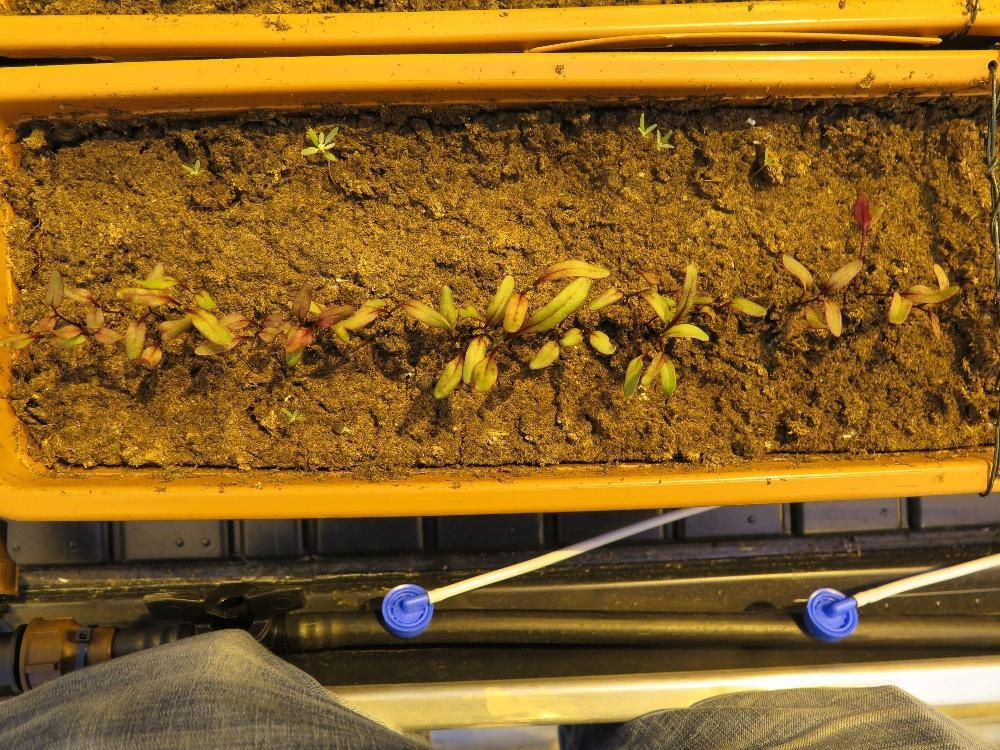weed: (297, 122, 338, 160), (179, 157, 204, 179), (655, 126, 674, 152), (279, 406, 306, 424), (761, 145, 777, 169)
